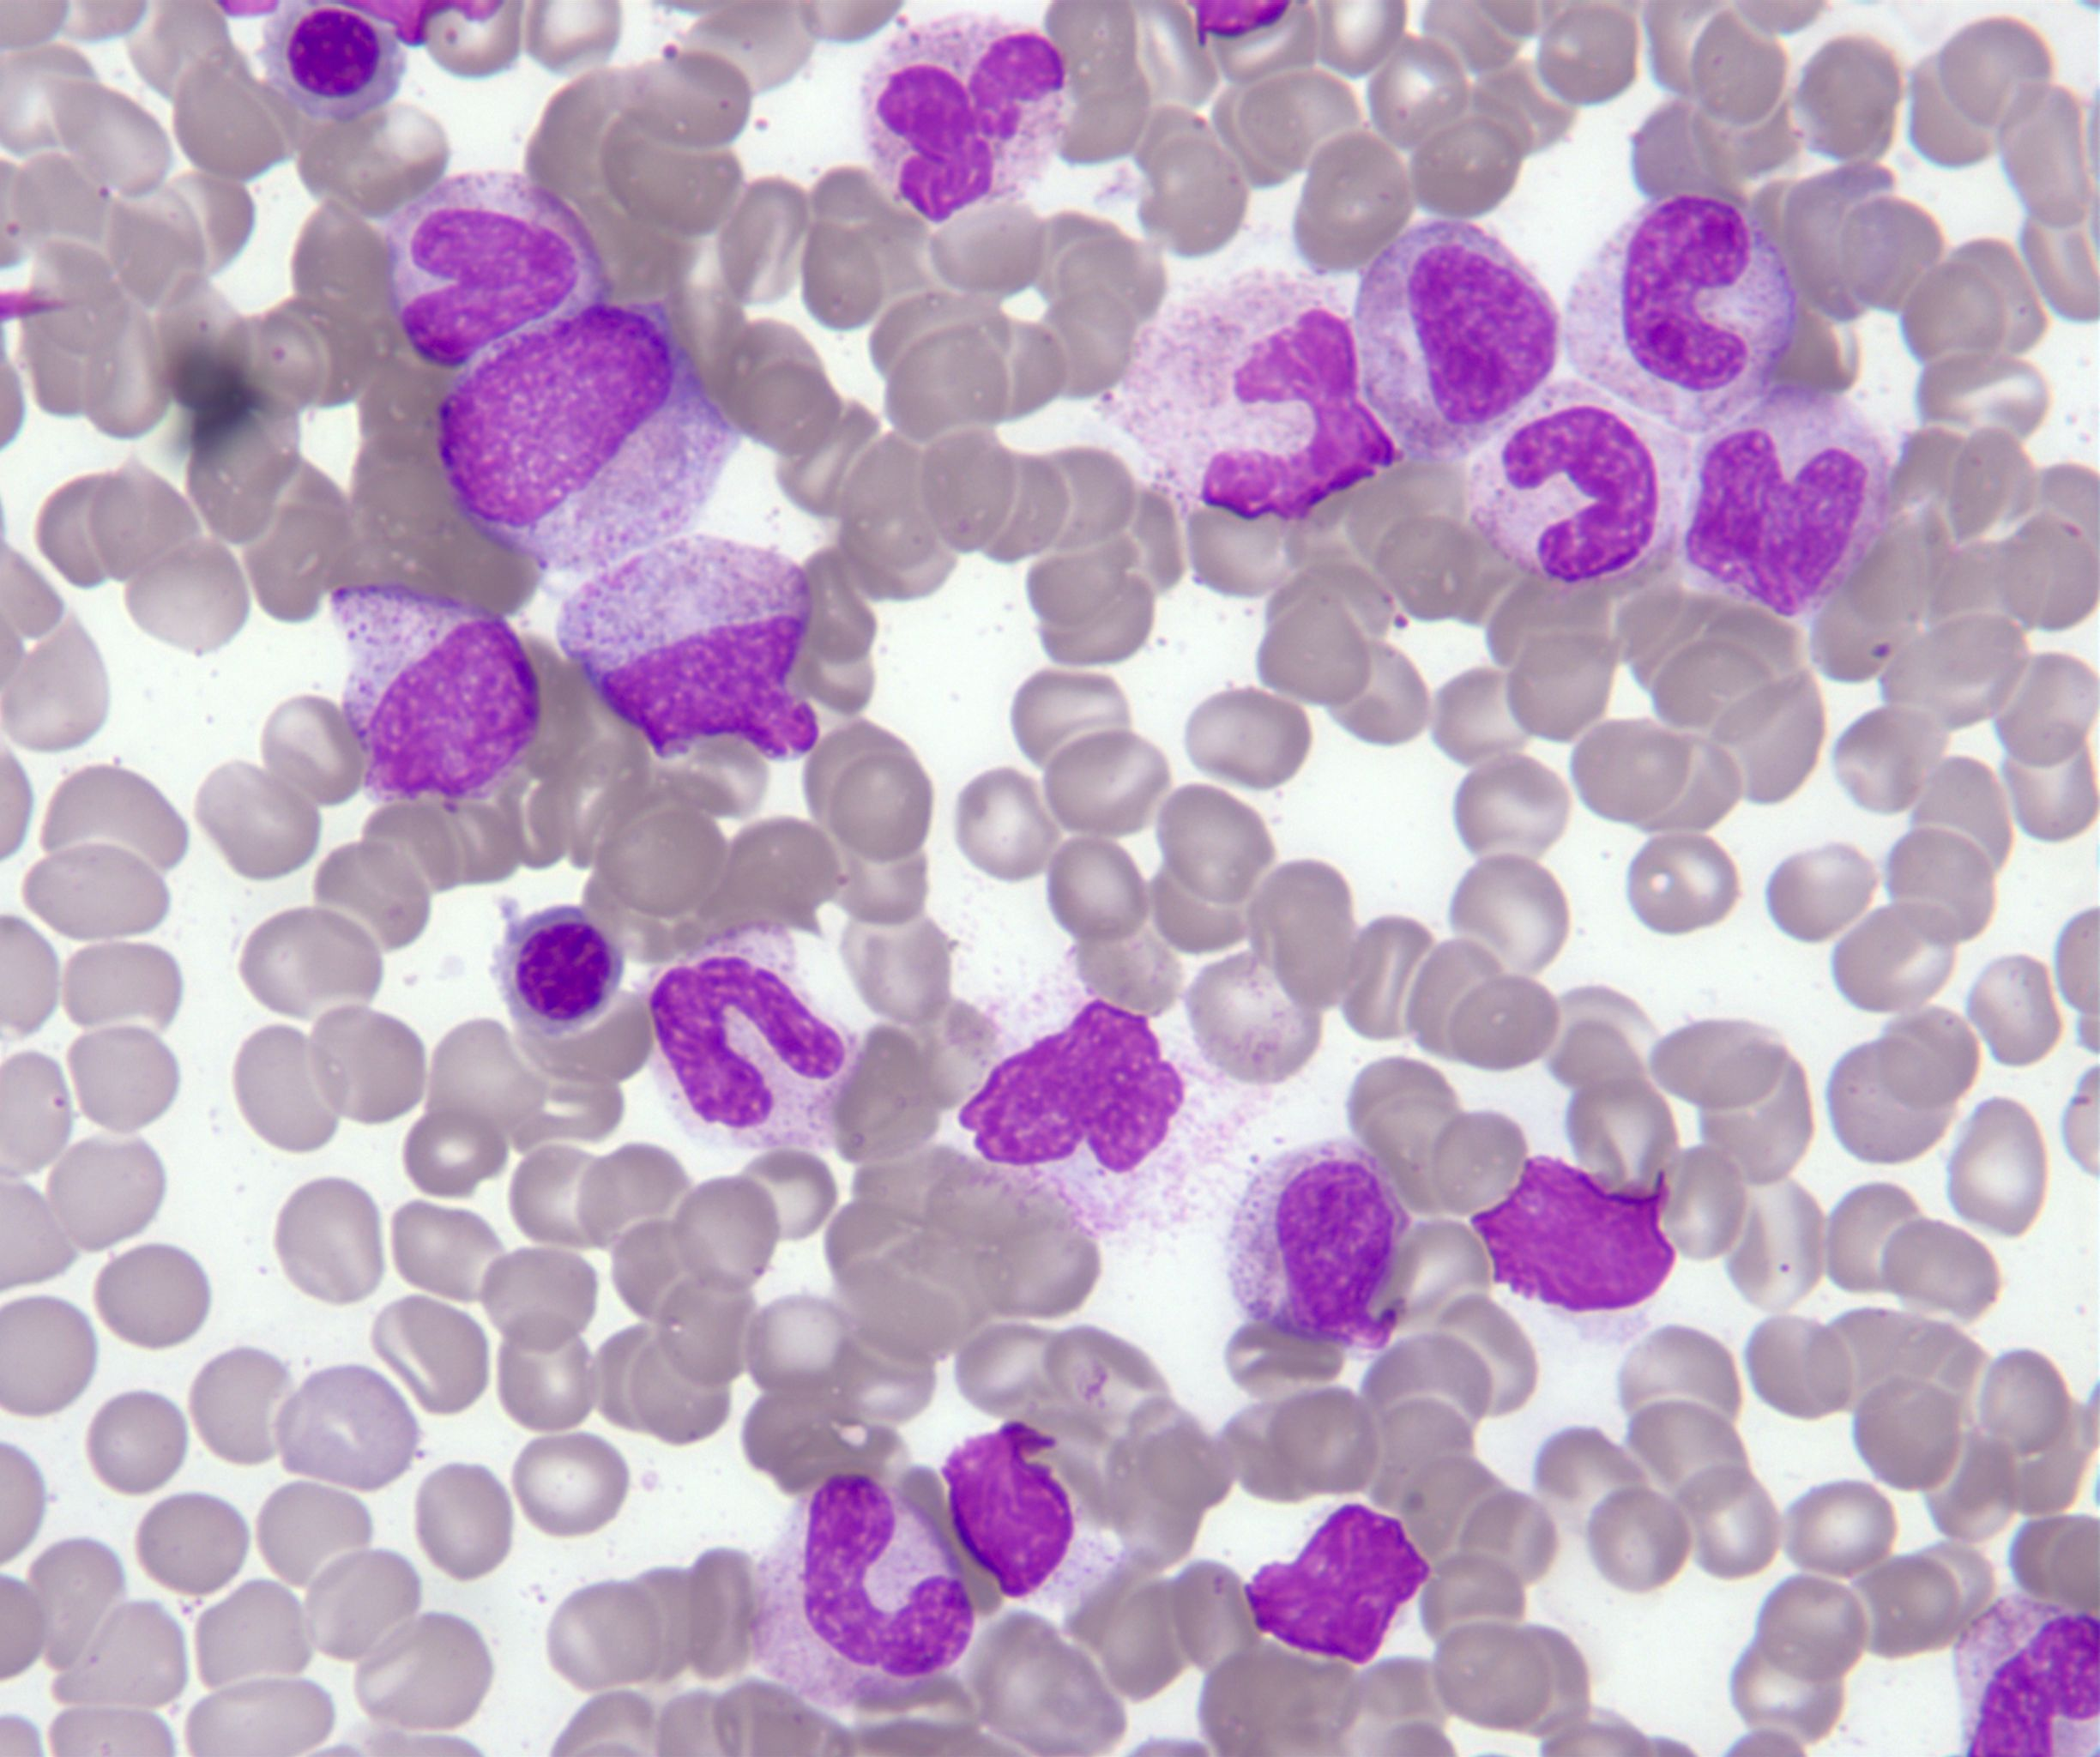23: (492, 900, 628, 1047)
24: (255, 0, 408, 124)
3: (431, 298, 743, 579), (319, 579, 548, 813), (1352, 218, 1559, 462), (1217, 1132, 1415, 1357)
32: (1238, 1495, 1437, 1672), (933, 1415, 1076, 1609)
4: (555, 529, 830, 768), (1680, 380, 1894, 625)
5: (1104, 260, 1408, 527), (1559, 188, 1805, 434), (738, 1467, 980, 1713), (633, 911, 860, 1152), (1460, 375, 1690, 590), (382, 166, 617, 375)
6: (855, 5, 1080, 230)
x: (954, 995, 1190, 1178), (1467, 1148, 1681, 1317)
